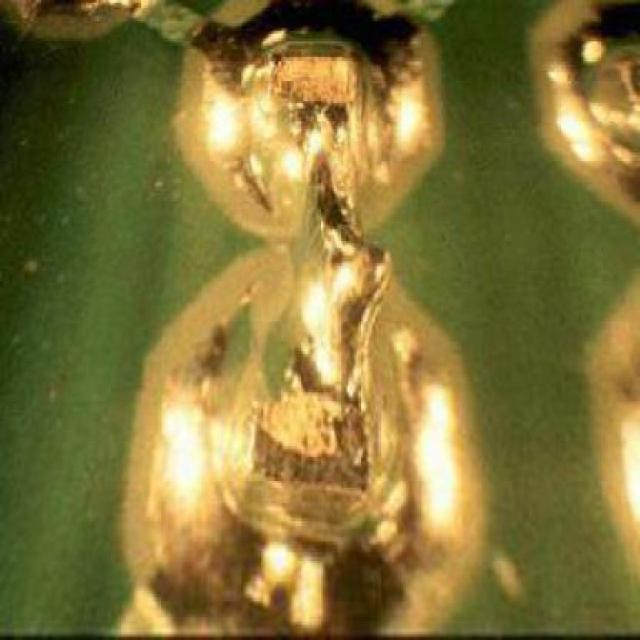Soldering shorted: (208, 29, 404, 562)
